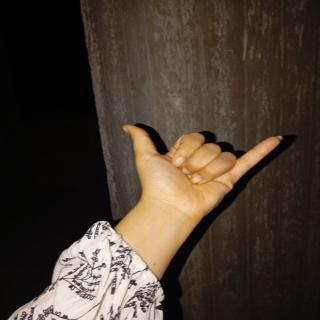YA: (113, 102, 313, 231)
